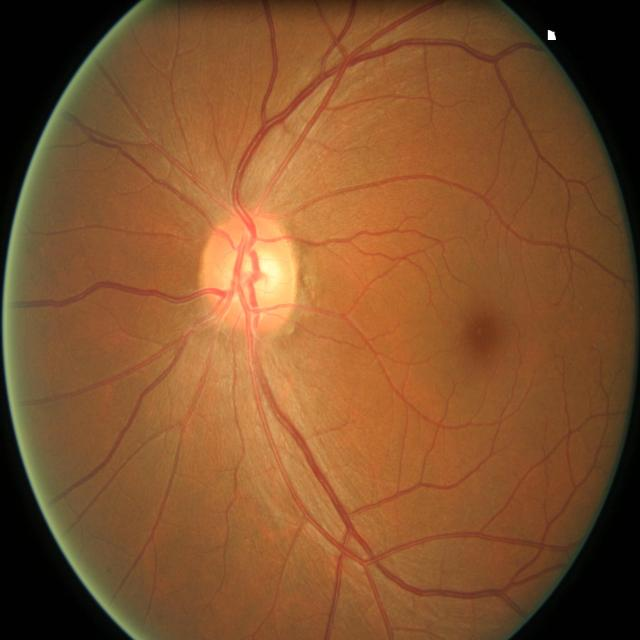OC: (244, 250, 281, 293)
OD: (202, 217, 296, 330)
